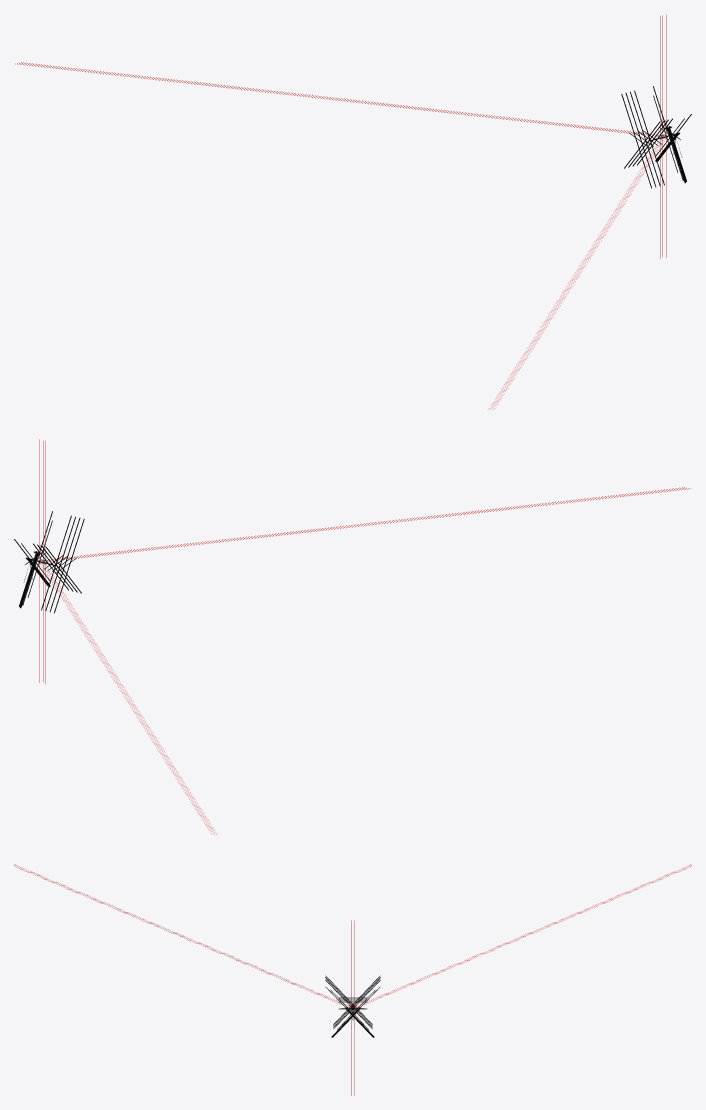
File: Timbaland.fbx
3 renders of one model, top to bottom at view 1: azimuth 30°, elevation 25°; view 2: azimuth 150°, elevation 25°; view 3: azimuth 270°, elevation 25°, orthographic. The views are drawn at different scales.
Bounding box in the file's own units: 36806 × 20000 × 70957.
